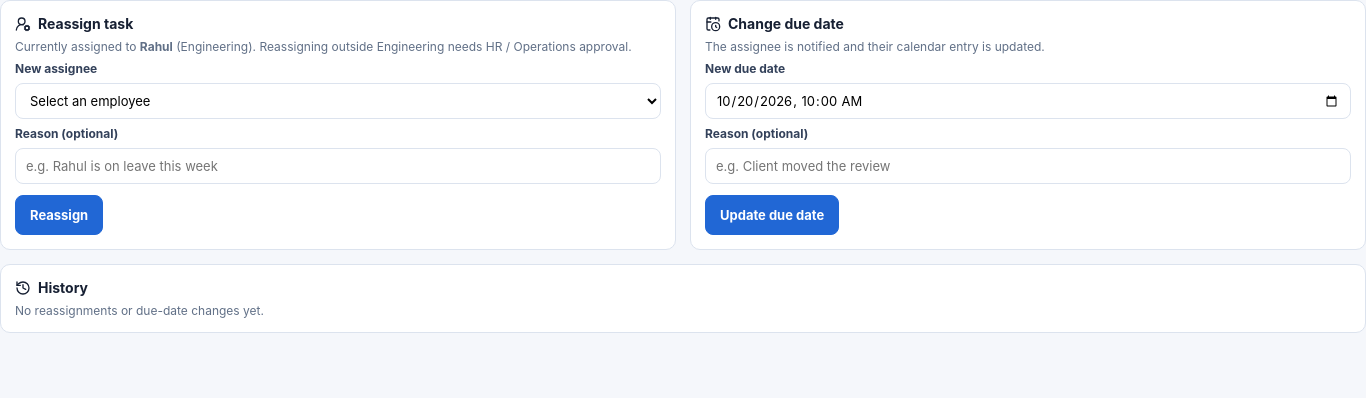
Test: TaskManagePanel › reassigns within the team and reports that both people were notified
The image size is (1366, 398).
Select "Ava Patel" in the dropdown labelled "New assignee" at [338, 101], box x1=15 y1=83 x2=661 y2=119
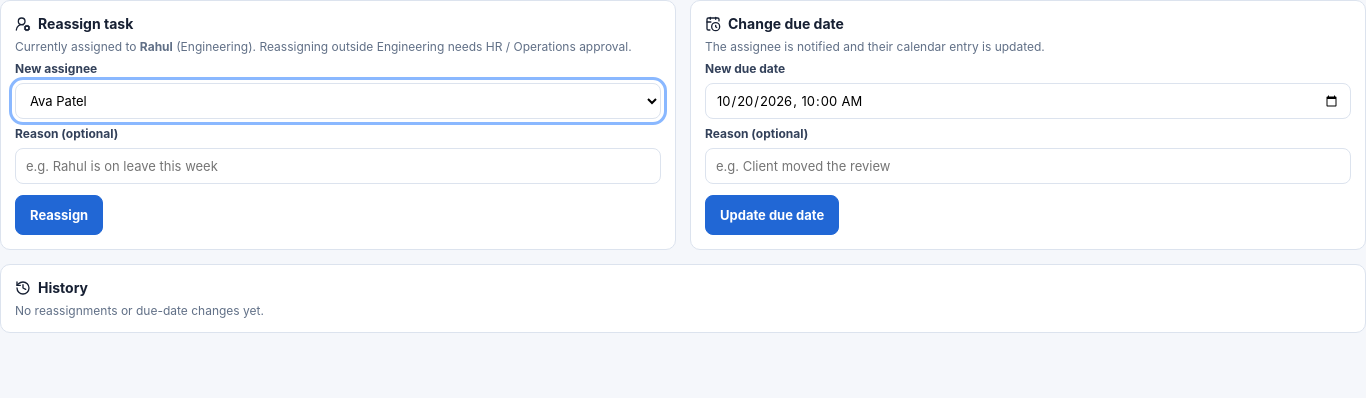
Type "Rahul on leave" into the field labelled "Reason (optional)" below "New assignee" at [338, 166], box x1=15 y1=148 x2=661 y2=184
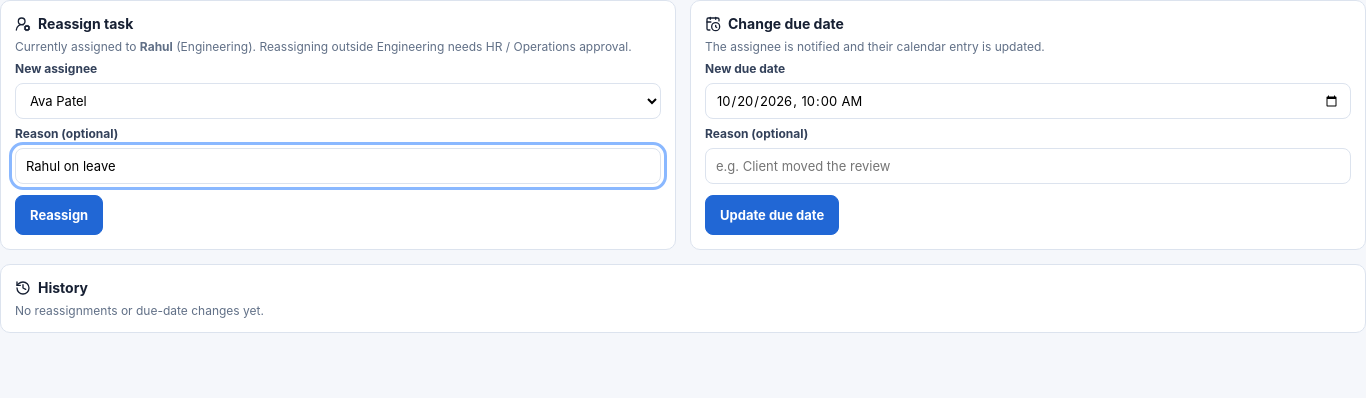
Click the button "Reassign" at [59, 215], box x1=15 y1=195 x2=103 y2=235
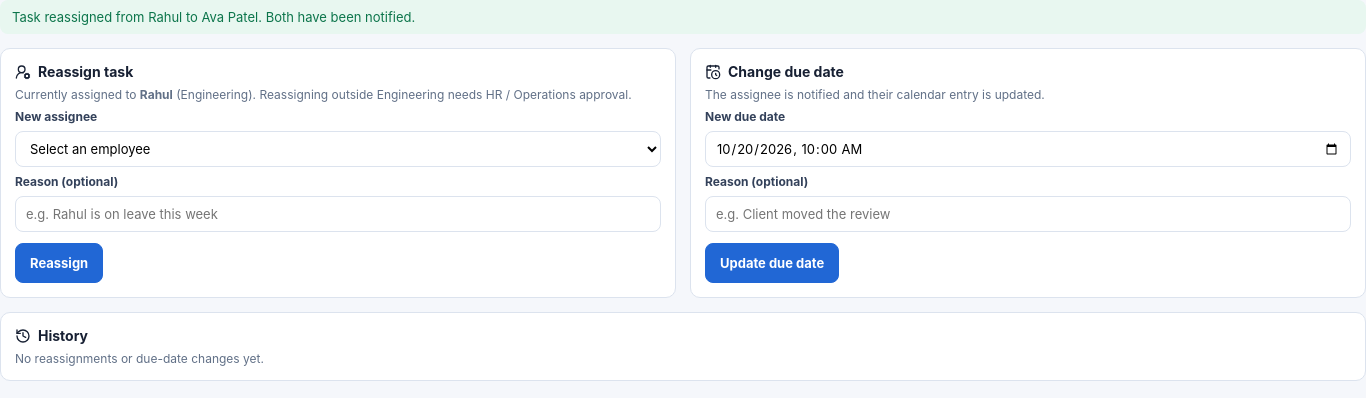
Result: the message shows "Both have been notified." at x1=12 y1=9 x2=415 y2=25
